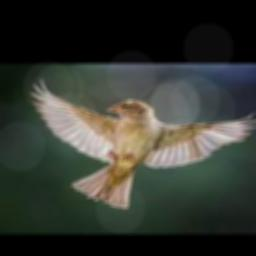Sparrow: (30, 79, 256, 208)
